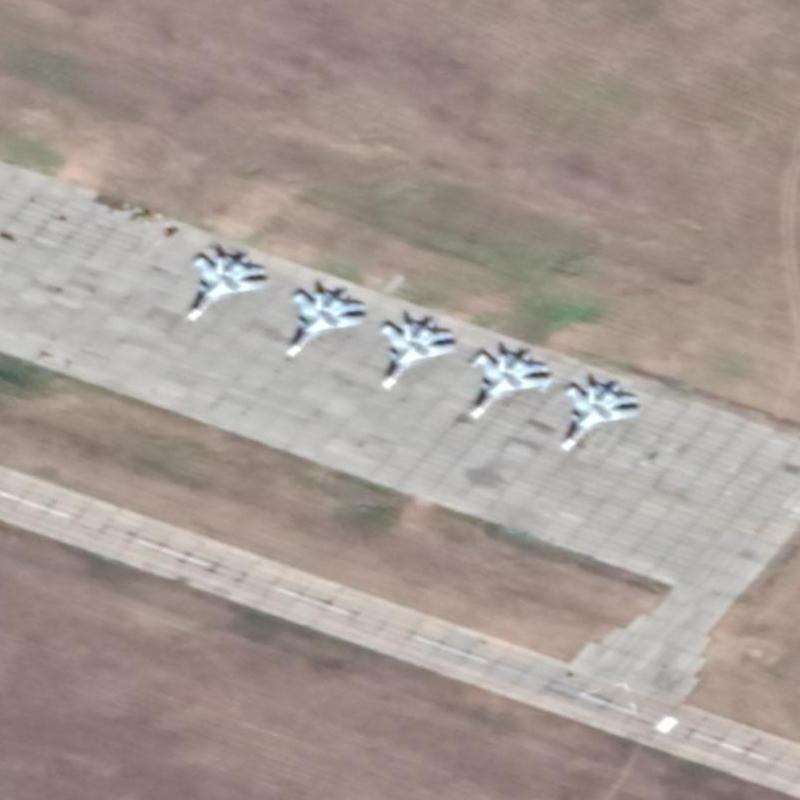A19: (464, 346, 555, 419), (555, 379, 641, 454), (375, 314, 458, 391), (282, 286, 368, 360), (181, 250, 268, 323)
